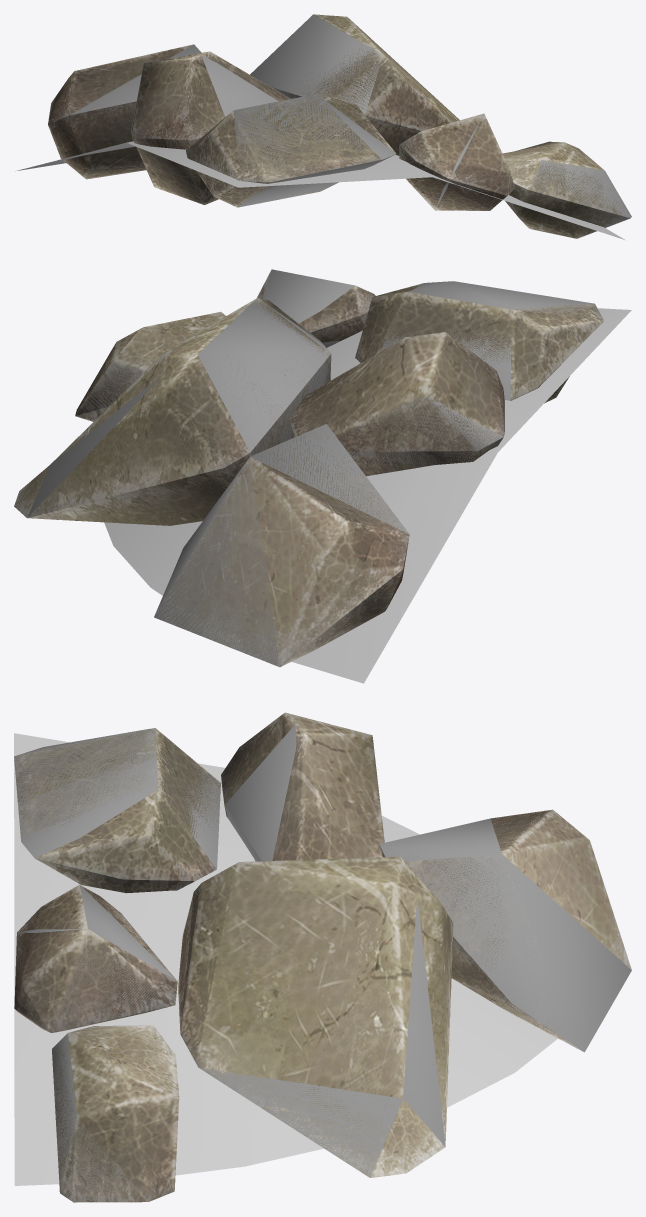
The model's file is z_debris_big_06.FBX.
3 renders of one model, top to bottom at view 1: azimuth 30°, elevation 25°; view 2: azimuth 150°, elevation 25°; view 3: azimuth 270°, elevation 25°, orthographic. The views are drawn at different scales.
Visible parts, largest first — view 1: debris_big_06_LOD0, debris_big_06_CLOD0, debris_big_m_04_LOD0, debris_big_m_04_CLOD0; view 2: debris_big_06_LOD0, debris_big_06_CLOD0, debris_big_m_04_LOD0; view 3: debris_big_06_LOD0, debris_big_06_CLOD0, debris_big_m_04_LOD0.
Boxes of the visible parts, x1,y1,x2,y2 form: debris_big_06_LOD0: [48, 14, 629, 238]; debris_big_06_CLOD0: [70, 14, 631, 233]; debris_big_m_04_LOD0: [127, 141, 625, 240]; debris_big_m_04_CLOD0: [15, 142, 135, 171]; debris_big_06_LOD0: [14, 270, 603, 667]; debris_big_06_CLOD0: [27, 269, 600, 666]; debris_big_m_04_LOD0: [104, 308, 631, 683]; debris_big_06_LOD0: [14, 712, 631, 1202]; debris_big_06_CLOD0: [14, 724, 631, 1202]; debris_big_m_04_LOD0: [14, 733, 557, 1185].
Size of what is drawn, in the model's own units: 112 by 51.68 by 108.
